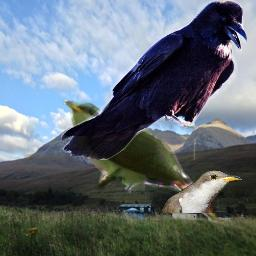Crow: (61, 0, 247, 160)
Cuckoo: (61, 100, 222, 223), (161, 170, 242, 213)
